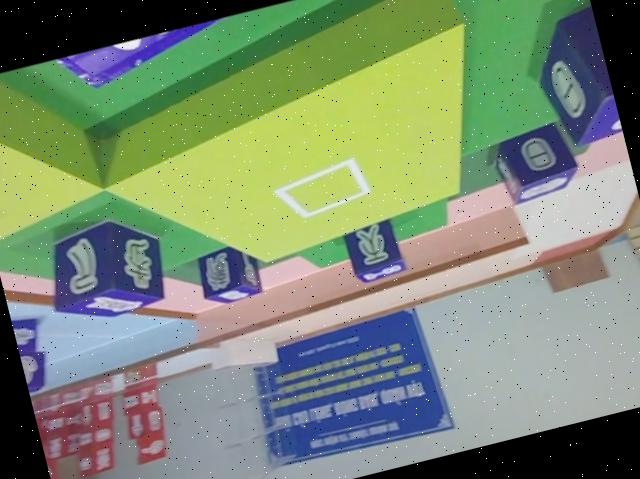R2 Fake Blue: (37, 205, 176, 328), (521, 0, 623, 149), (488, 115, 586, 205), (192, 239, 264, 309), (338, 214, 408, 286), (9, 308, 52, 391)
